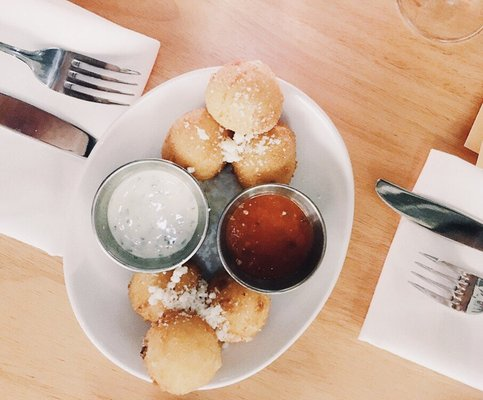burger: (1, 30, 160, 106)
sandwich: (375, 179, 483, 259), (0, 91, 93, 160)
sushi: (92, 159, 209, 275), (218, 183, 327, 295)
